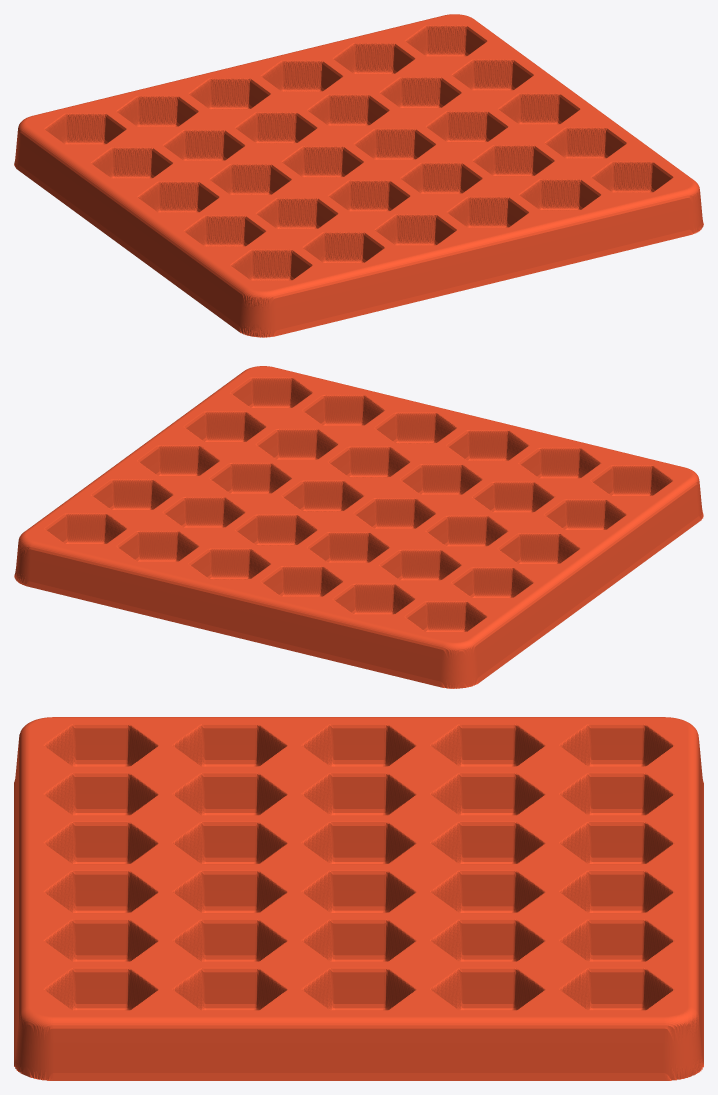
File: mold.glb
The picture shows the model from 3 angles, top to bottom: view 1: azimuth 30°, elevation 25°; view 2: azimuth 150°, elevation 25°; view 3: azimuth 270°, elevation 25°; orthographic projection. The views are drawn at different scales.
Parts seen in each view (by area): view 1: geometry_0; view 2: geometry_0; view 3: geometry_0.
Boxes of the visible parts, box(x1,y1,x2,y2) form: geometry_0: box(14, 14, 703, 337); geometry_0: box(14, 366, 703, 688); geometry_0: box(14, 717, 703, 1080).
Size of the model in its own units: 0.1689 by 0.0145 by 0.1578.
